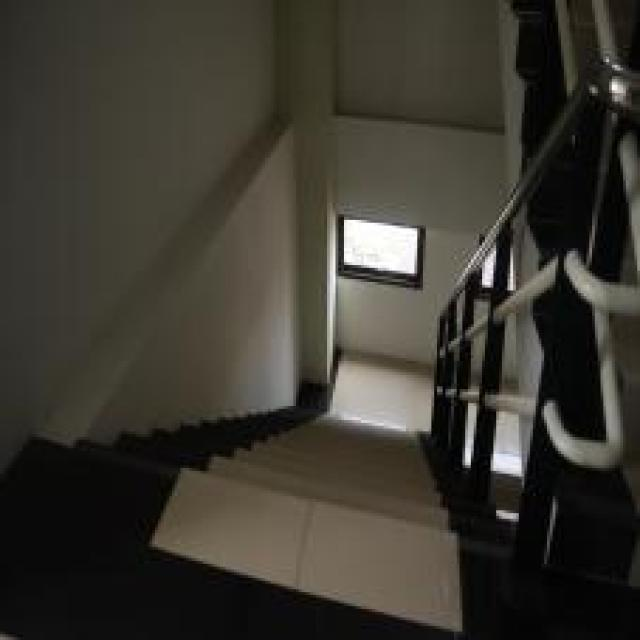downstair: (137, 413, 464, 638)
